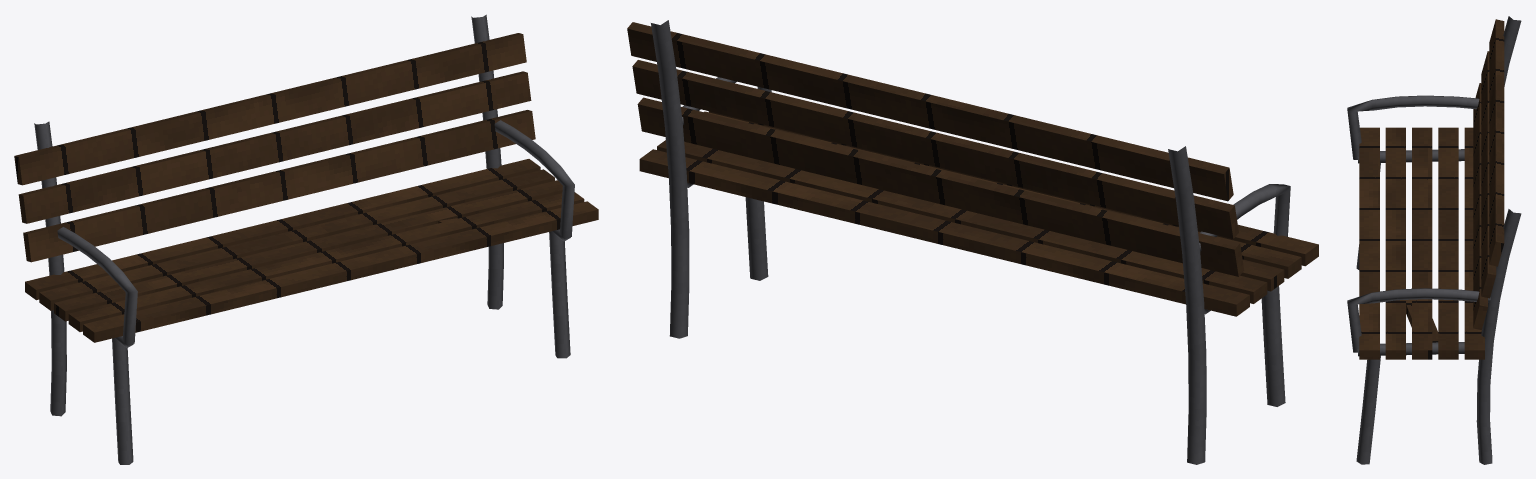
The model's file is bench.glb.
3 views of the same model, side by side, from view 1: azimuth 30°, elevation 25°; view 2: azimuth 150°, elevation 25°; view 3: azimuth 270°, elevation 25° (orthographic). The views are drawn at different scales.
Parts seen in each view (by area): view 1: bench-col, detail; view 2: bench-col, detail; view 3: bench-col, detail.
Boxes of the visible parts, x1=… form: bench-col: x1=14, y1=33, x2=598, y2=342; detail: x1=34, y1=14, x2=574, y2=464; bench-col: x1=627, y1=22, x2=1318, y2=316; detail: x1=651, y1=20, x2=1290, y2=464; bench-col: x1=1359, y1=19, x2=1504, y2=359; detail: x1=1347, y1=16, x2=1521, y2=464.
Size of the model in its own units: 1.8 by 0.9581 by 0.5953.
Materials: 2 (2 with a texture image).
